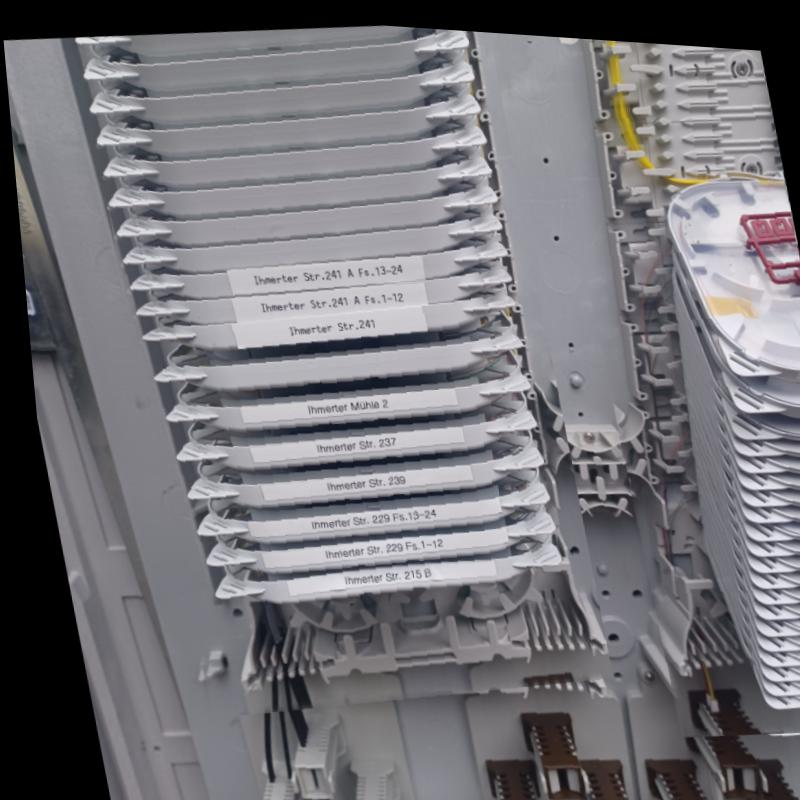NT-Gehause: (0, 0, 800, 800)
Spleiskassetten: (71, 20, 602, 685), (556, 29, 800, 709)
